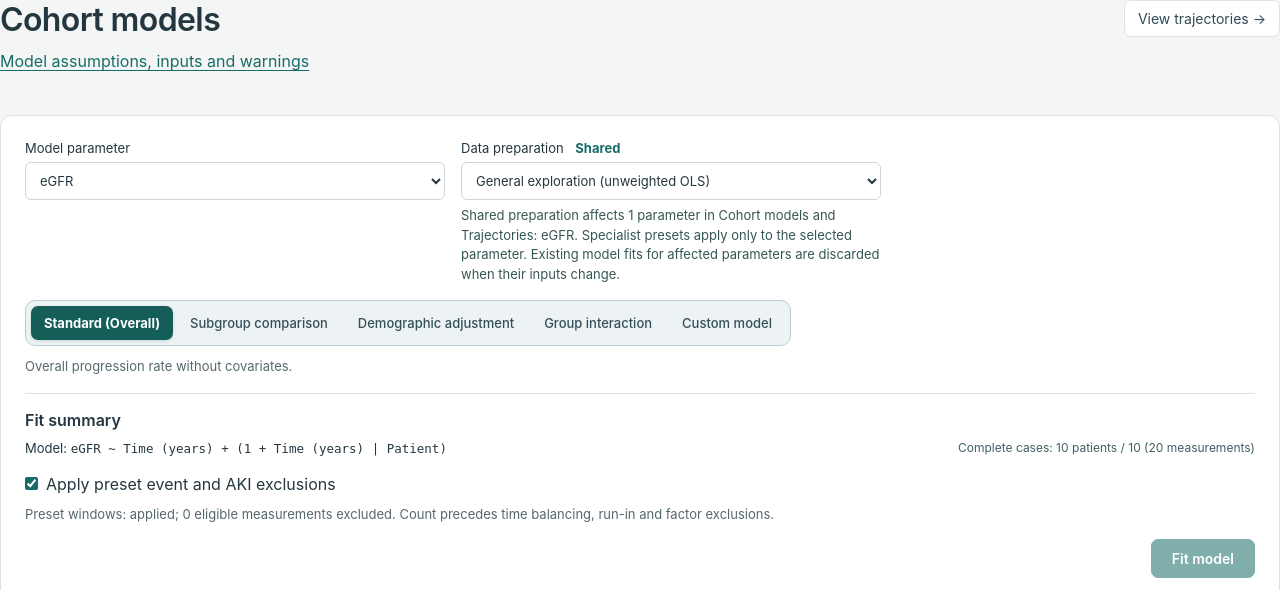
CohortModelsWorkspace › updates availability immediately when random slopes become identifiable
Check: the button "Fit model" is disabled, box [1151,539,1255,578]
What coordinates should you click on to do the following:
click the button "Custom model"
I would click on:
 (727, 323)
Its box is [669,306,785,340].
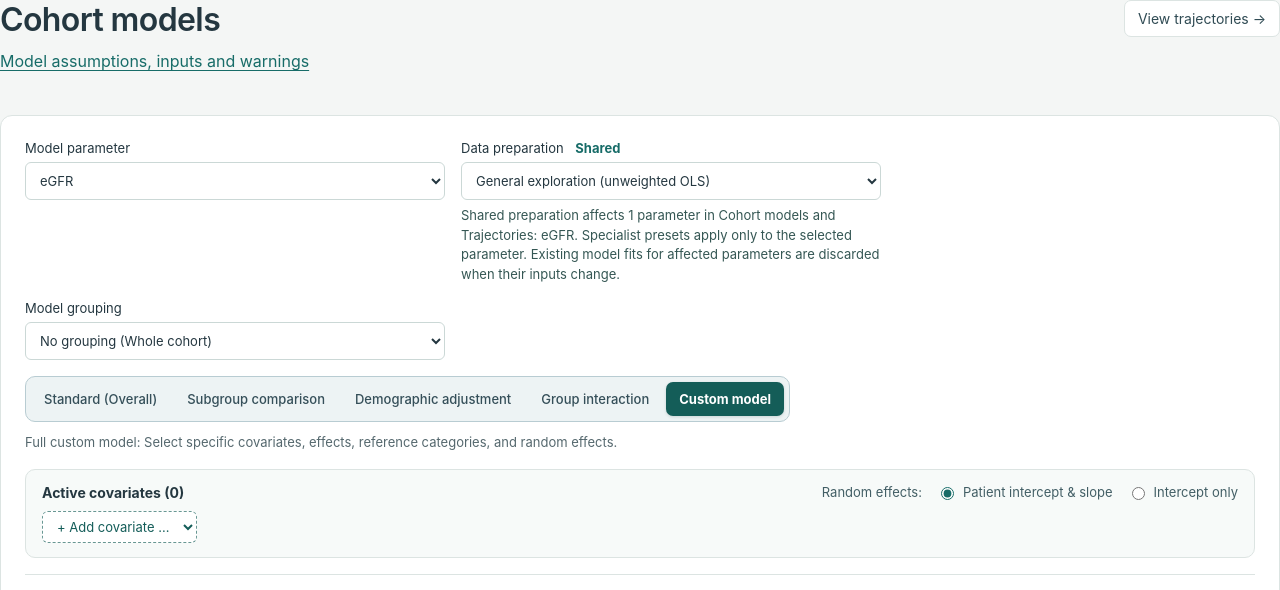
What coordinates should you click on to do the following:
click the radio button labelled "Intercept only"
I would click on:
 (1138, 494)
Its box is [1132,487,1145,500].
(page scrolled)
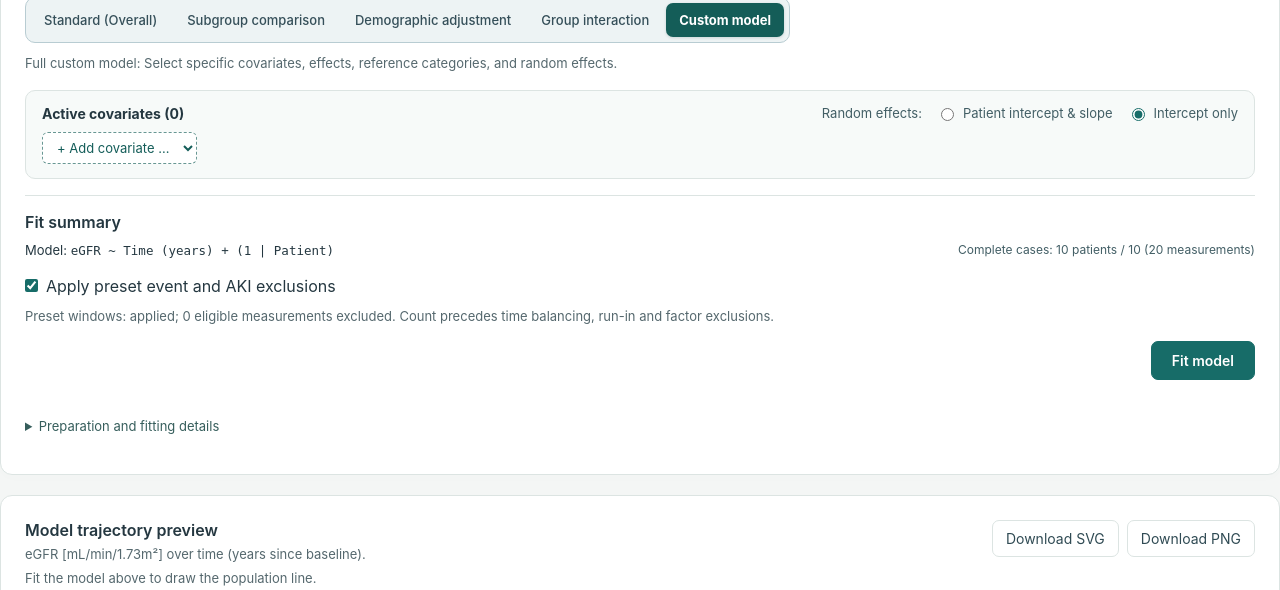
Check: the button "Fit model" is enabled, box [1151,341,1255,380]
